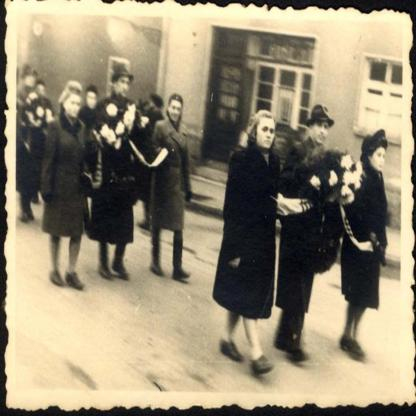face: (257, 117, 276, 148), (313, 116, 330, 145), (372, 147, 386, 172), (68, 95, 82, 119), (170, 100, 182, 122), (118, 76, 130, 97), (88, 92, 98, 109), (37, 85, 45, 98), (27, 77, 36, 87)
